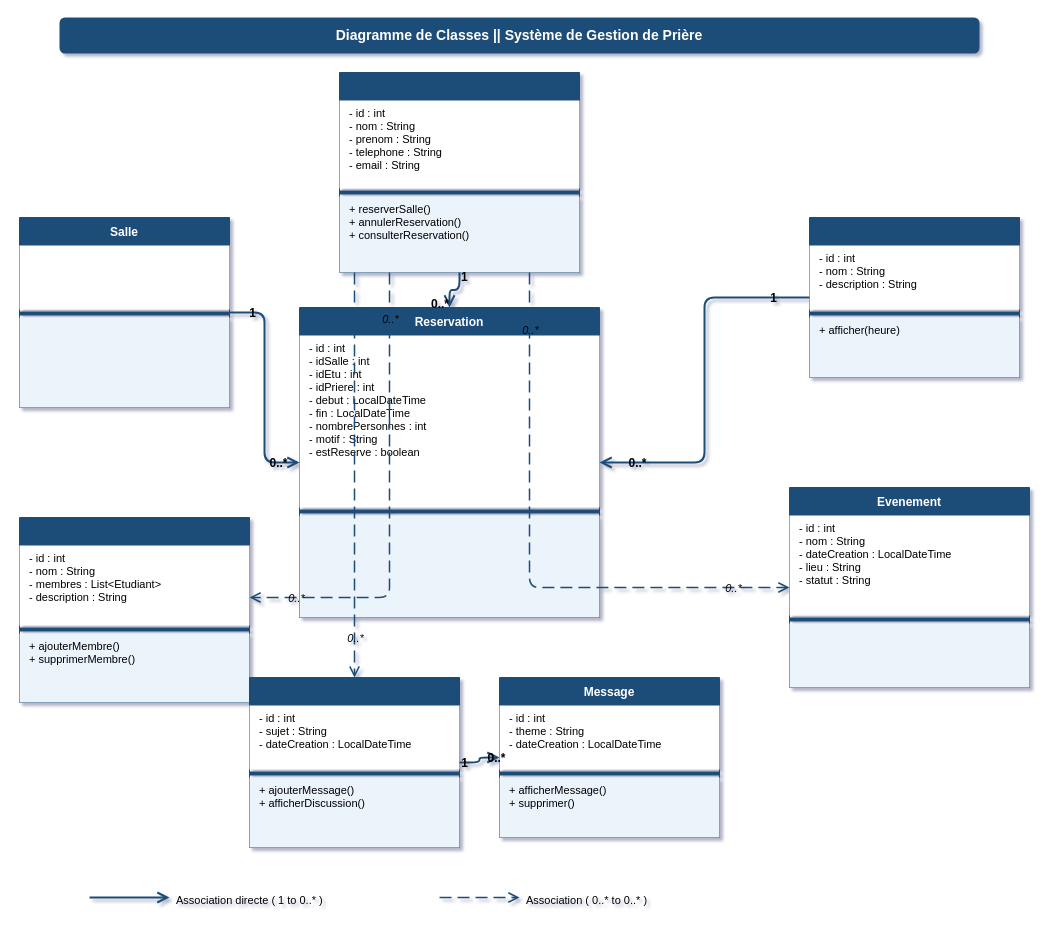
This 1054x931 diagram has some shape labels left out. Each missing label, with the box of its shape:
+ afficherEvenement() + retirerEvenement(): (789, 623, 1029, 687)
+ creerReservation() + annulerReservation() + confirmerReservation(): (299, 515, 599, 617)
+ estDisponible() + libererSalle() + afficherInformation(): (19, 317, 229, 407)
- id : int - capacite : int - statut : String: (19, 245, 229, 309)
Etudiant: (338, 72, 580, 272)
Forum: (248, 676, 460, 848)
Groupe: (18, 516, 250, 702)
Priere: (808, 216, 1020, 378)
